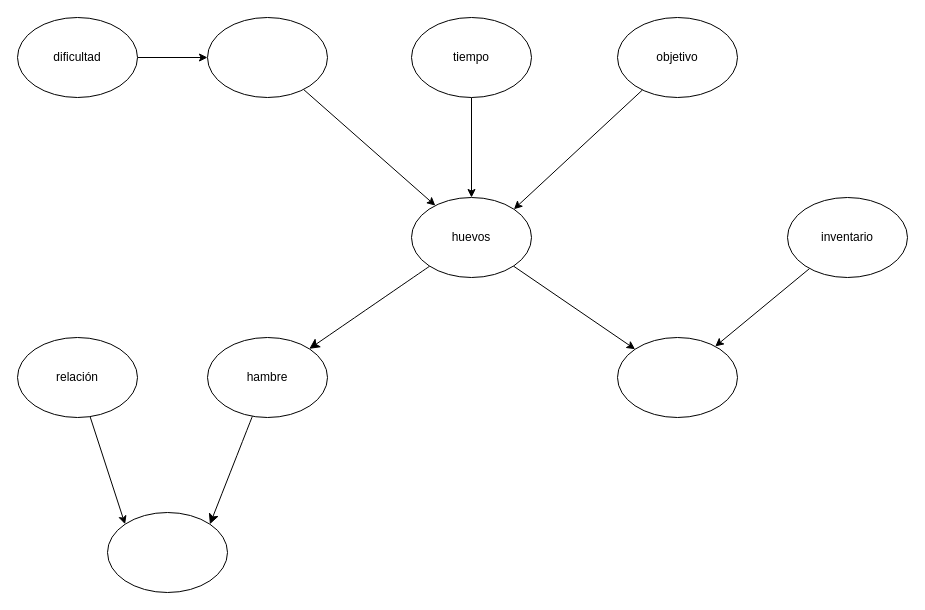
Image size: 925x610. Some labels were removed from this diagram. Here are the shapes that lost their labels. From the top down, the centre of each, then its label:
At (267,57): "peligro".
At (677,377): "salud".
At (167,552): "estado ánimo".
